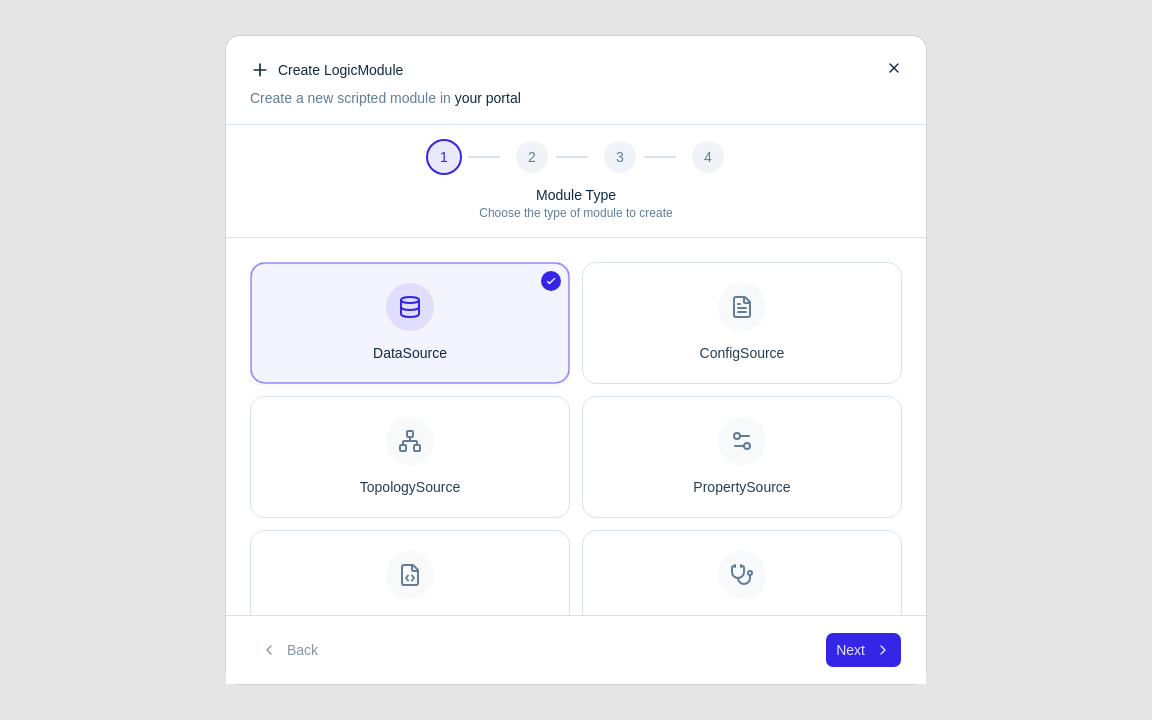
Scenario: CreateModuleWizard › step 4 - confirmation › Create Module button is disabled without portal connection
The image size is (1152, 720).
Click the button "Next".
click(864, 650)  # box [825,632,902,668]
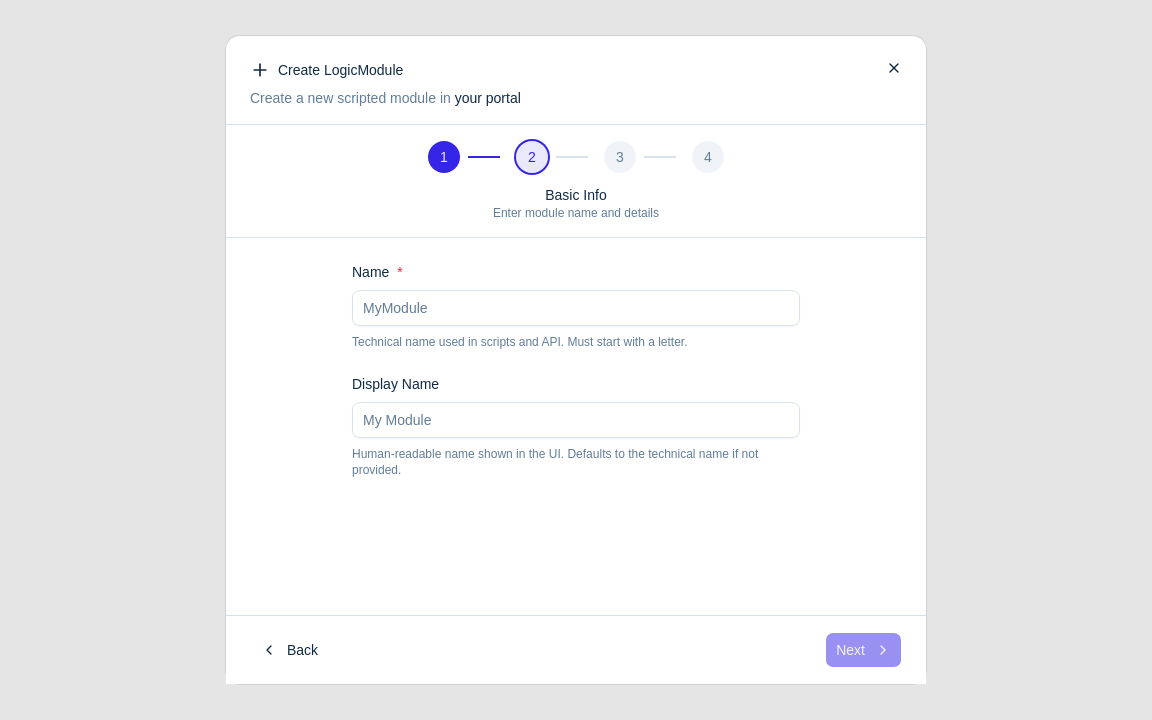
Type "TestModule" into the field with placeholder "MyModule".
click(576, 308); type("TestModule")  # box [352,290,800,326]
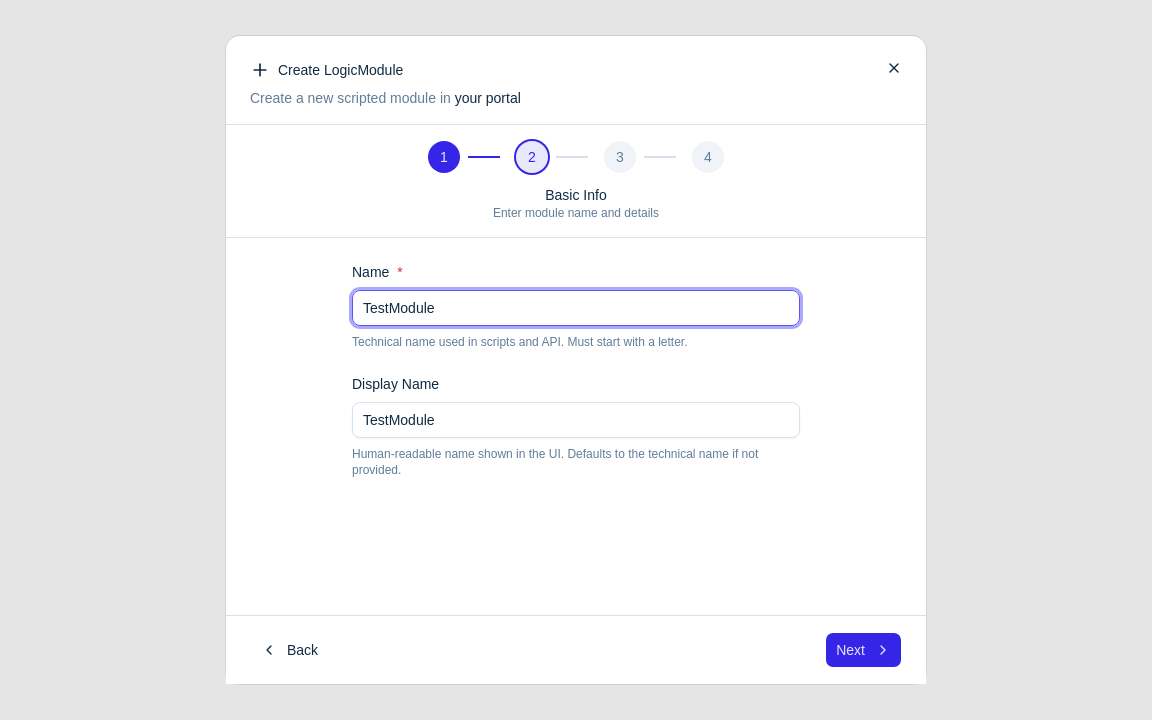
Click the button "Next".
click(864, 650)  # box [825,632,902,668]
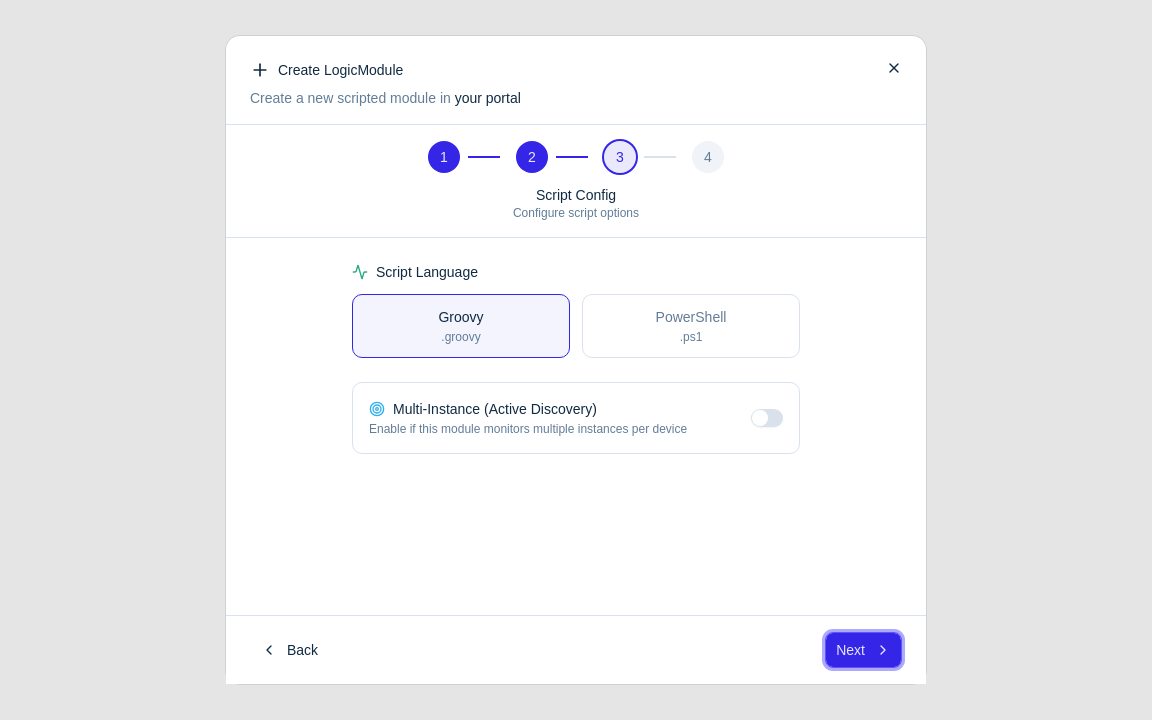
Click the button "Next".
click(864, 650)  # box [825,632,902,668]
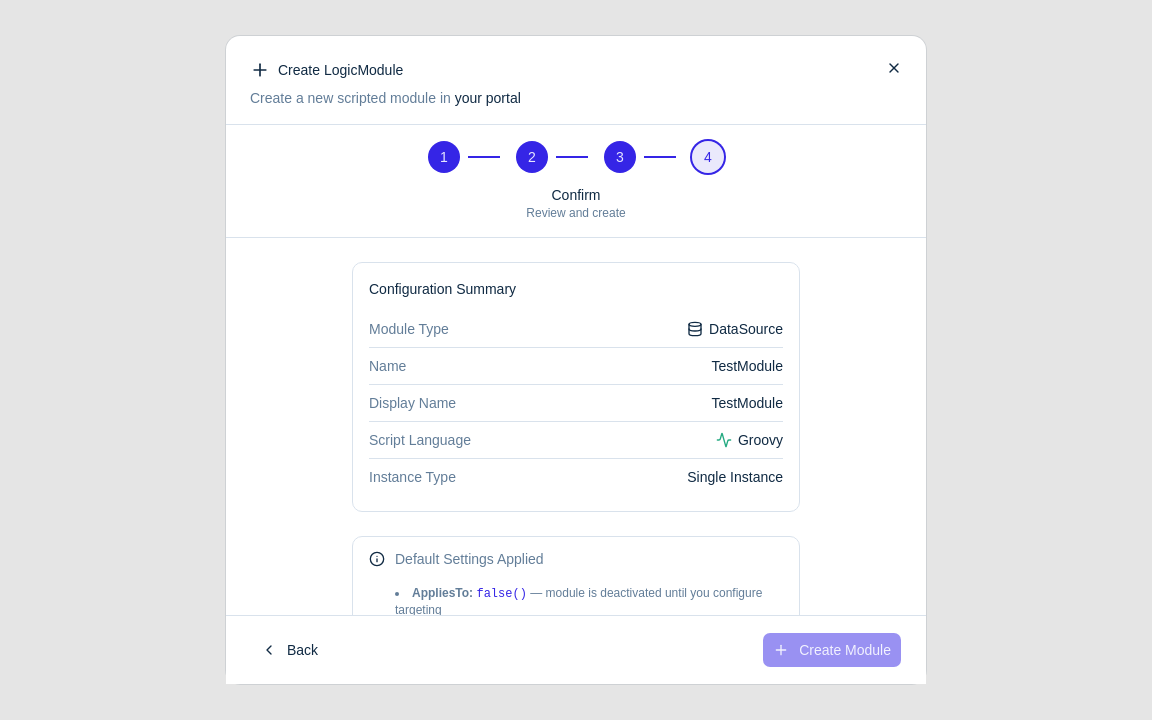
Check: the text "Confirm" is shown, box [552,187,600,203]
Check: the button "Create Module" is disabled, box [762,632,902,668]
